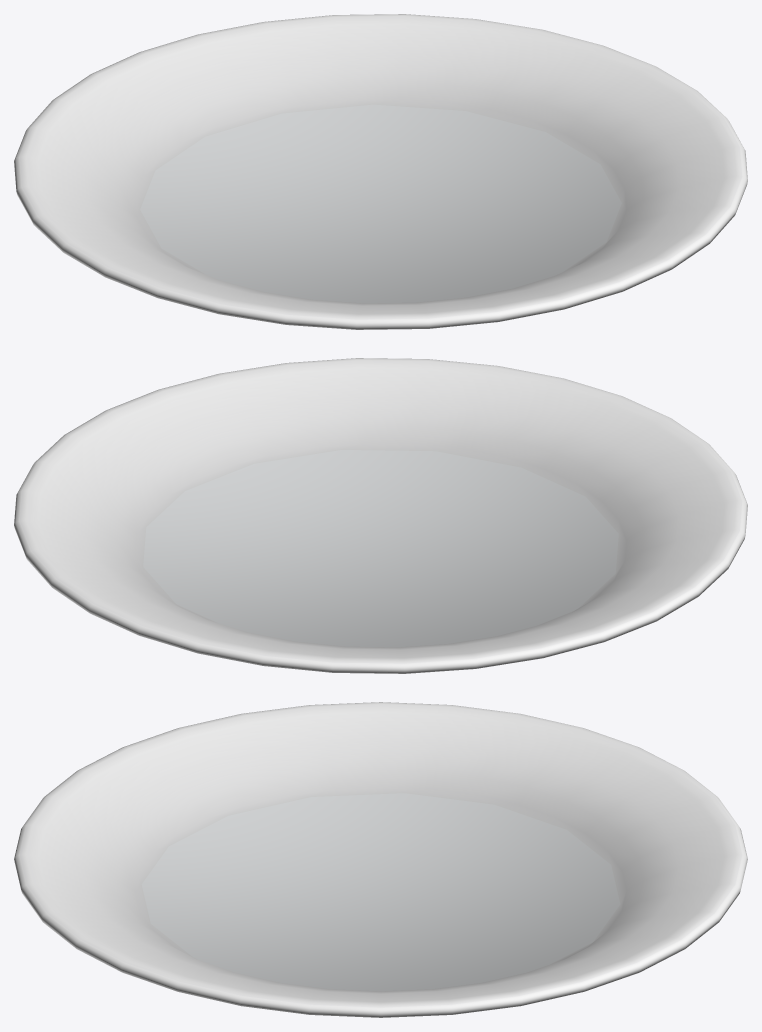
The model's file is plate_009.fbx.
The picture shows the model from 3 angles, top to bottom: view 1: azimuth 30°, elevation 25°; view 2: azimuth 150°, elevation 25°; view 3: azimuth 270°, elevation 25°; orthographic projection.
Parts seen in each view (by area): view 1: plate_009; view 2: plate_009; view 3: plate_009.
Boxes of the visible parts, x1,y1,x2,y2 form: plate_009: [14, 14, 747, 329]; plate_009: [14, 358, 747, 673]; plate_009: [14, 702, 747, 1017].
Size of the model in its own units: 40.5 by 40.5 by 2.99.
